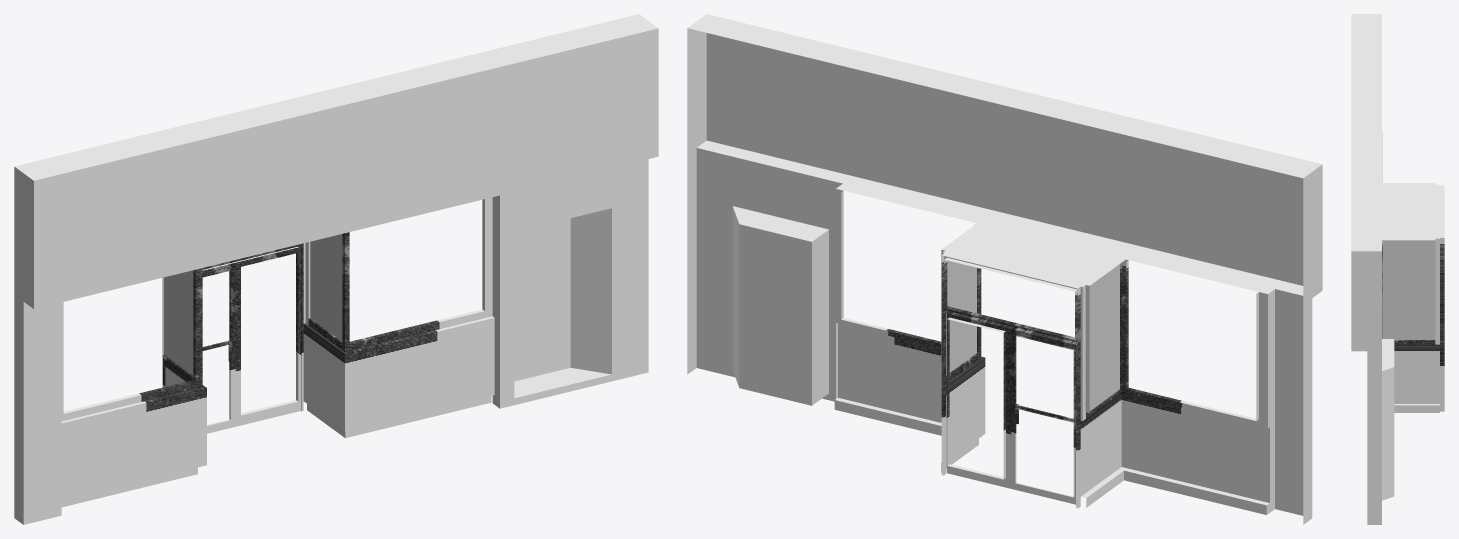
The model's file is something.fbx.
3 views of the same model, side by side, from view 1: azimuth 30°, elevation 25°; view 2: azimuth 150°, elevation 25°; view 3: azimuth 270°, elevation 25° (orthographic). The views are drawn at different scales.
Parts seen in each view (by area): view 1: Plane335, Object021, Plane330, Plane333, Plane331, Plane334, Plane337, Plane338; view 2: Plane335, Object021, Plane330, Plane333, Plane334, Plane331, Plane338, Plane337; view 3: Plane335, Plane337, Object021, Plane333, Plane334, Plane331.
Part boxes in pixels (left/top/right/bottom): Plane335: left=14, top=14, right=658, bottom=308; Object021: left=492, top=159, right=648, bottom=408; Plane330: left=14, top=295, right=206, bottom=524; Plane333: left=303, top=316, right=494, bottom=438; Plane331: left=61, top=197, right=492, bottom=421; Plane334: left=162, top=243, right=303, bottom=433; Plane337: left=310, top=234, right=342, bottom=340; Plane338: left=163, top=270, right=193, bottom=374; Plane335: left=687, top=14, right=1322, bottom=304; Object021: left=687, top=148, right=842, bottom=405; Plane330: left=1080, top=289, right=1312, bottom=524; Plane333: left=834, top=323, right=985, bottom=472; Plane334: left=941, top=253, right=1080, bottom=508; Plane331: left=836, top=189, right=1267, bottom=428; Plane338: left=1089, top=264, right=1119, bottom=410; Plane337: left=946, top=260, right=976, bottom=375; Plane335: left=1351, top=14, right=1439, bottom=351; Plane337: left=1382, top=240, right=1435, bottom=339; Object021: left=1367, top=339, right=1394, bottom=524; Plane333: left=1394, top=344, right=1439, bottom=412; Plane334: left=1440, top=185, right=1444, bottom=411; Plane331: left=1382, top=132, right=1439, bottom=344.
Bounding box in the file's own units: 1037 × 558 × 172.
